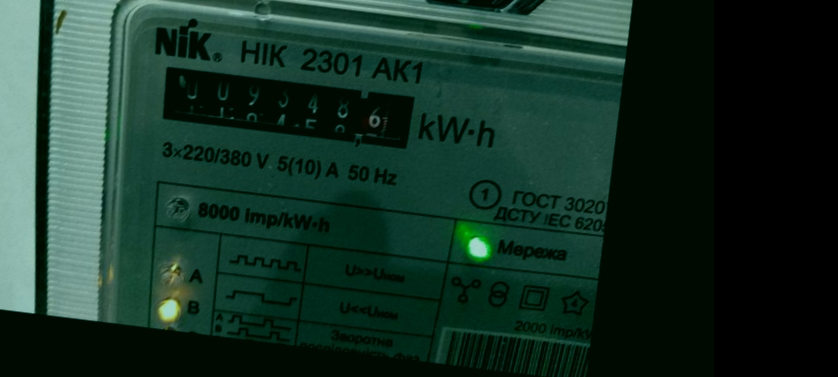0: (184, 73, 200, 101), (214, 77, 231, 102)
3: (274, 83, 291, 111)
4: (304, 87, 321, 116)
6: (364, 102, 385, 130)
8: (333, 92, 352, 121)
9: (243, 81, 261, 108)
screen: (149, 58, 424, 159)
